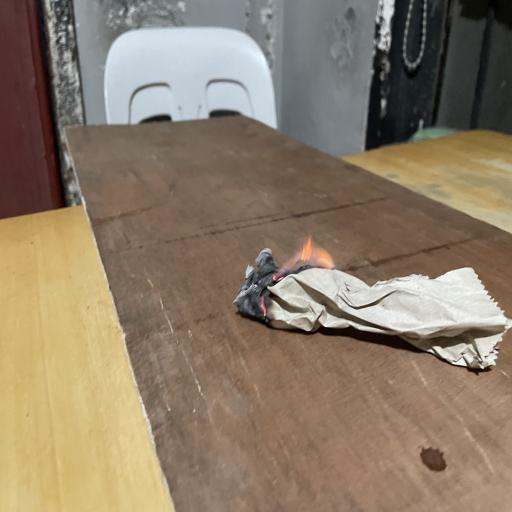fire: (179, 215, 364, 359)
